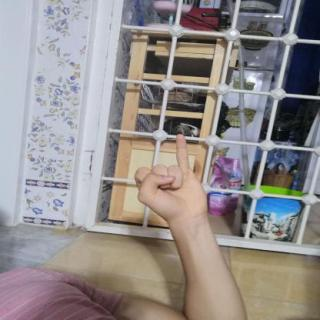MEEM: (120, 128, 222, 228)
